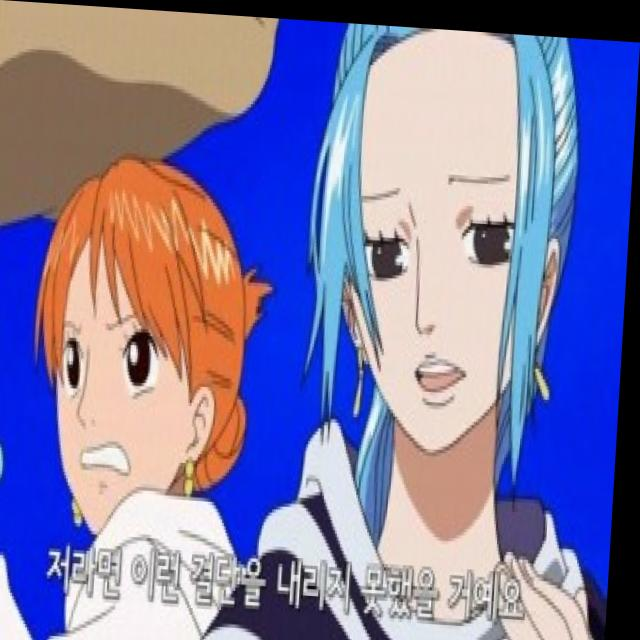Nami: (27, 128, 278, 551)
